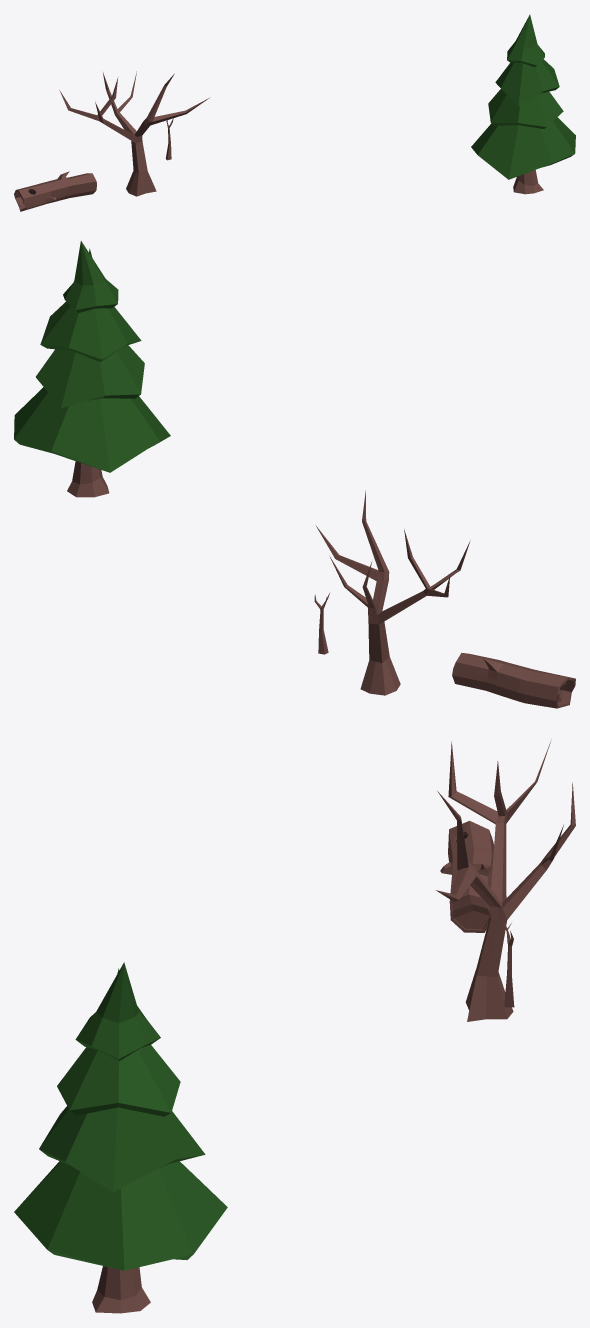
The model's file is FOREST.fbx.
The picture shows the model from 3 angles, top to bottom: view 1: azimuth 30°, elevation 25°; view 2: azimuth 150°, elevation 25°; view 3: azimuth 270°, elevation 25°; orthographic projection. The views are drawn at different scales.
Visible parts, largest first — view 1: ЕЛКА, СУХОЙ, БРЕВНО; view 2: ЕЛКА, СУХОЙ, БРЕВНО; view 3: ЕЛКА, СУХОЙ, БРЕВНО.
Boxes of the visible parts, x1=… form: ЕЛКА: x1=471, y1=14, x2=575, y2=194; СУХОЙ: x1=59, y1=71, x2=210, y2=196; БРЕВНО: x1=14, y1=171, x2=96, y2=211; ЕЛКА: x1=14, y1=241, x2=170, y2=497; СУХОЙ: x1=316, y1=490, x2=470, y2=695; БРЕВНО: x1=452, y1=652, x2=575, y2=708; ЕЛКА: x1=14, y1=962, x2=227, y2=1313; СУХОЙ: x1=435, y1=740, x2=575, y2=1021; БРЕВНО: x1=440, y1=820, x2=493, y2=932.
Size of the model in its own units: 1692 by 592 by 877.
